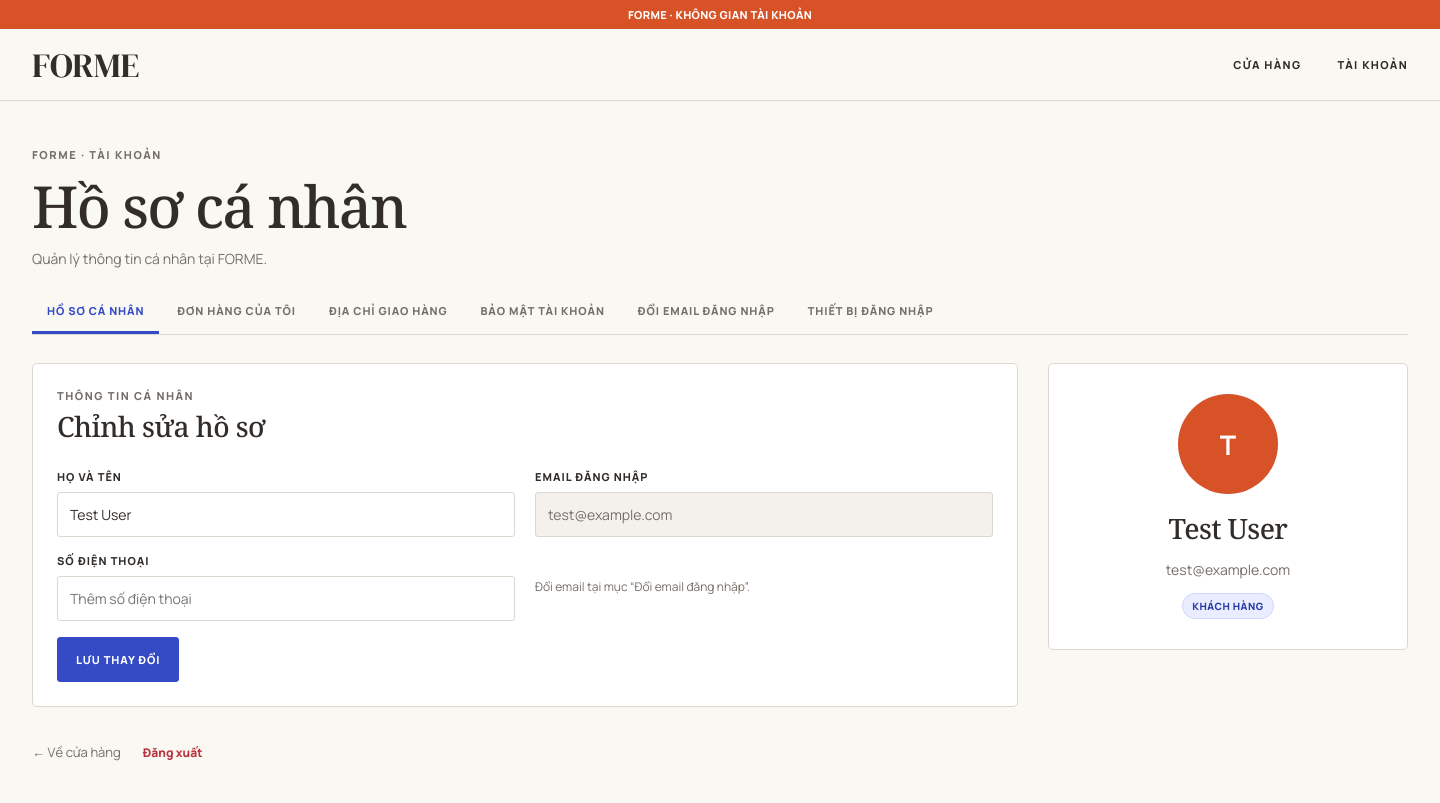
Test case: App › loads and updates the authenticated profile
The width and height of the screenshot is (1440, 803).
Expected: the text "test@example.com" is shown, [1166,560,1290,579]
Replace the text in the field labelled "HỌ VÀ TÊN" with "Updated User" at (286, 514), box [57,492,515,537]
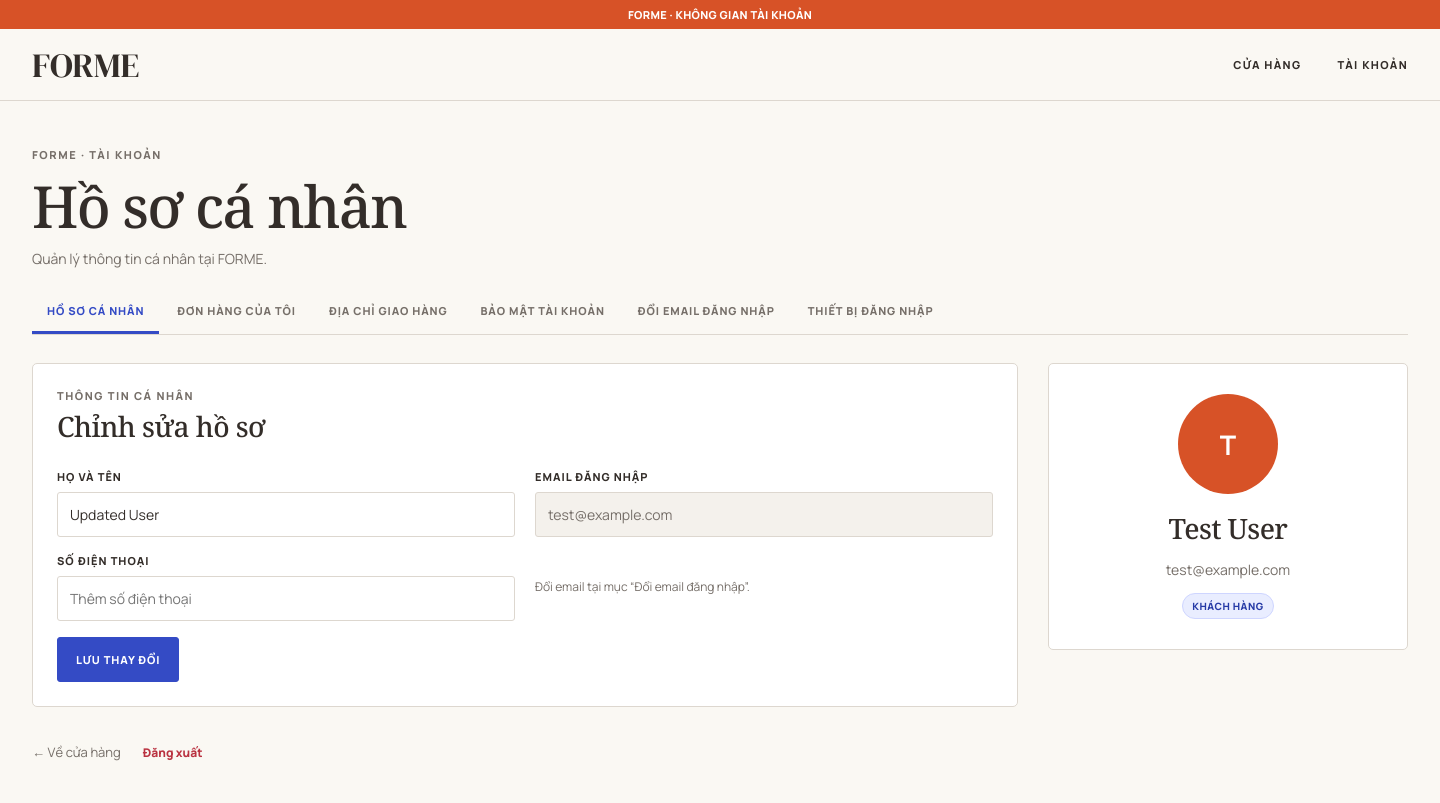
Type "0901234567" into the field labelled "SỐ ĐIỆN THOẠI" at (286, 598), box [57,576,515,621]
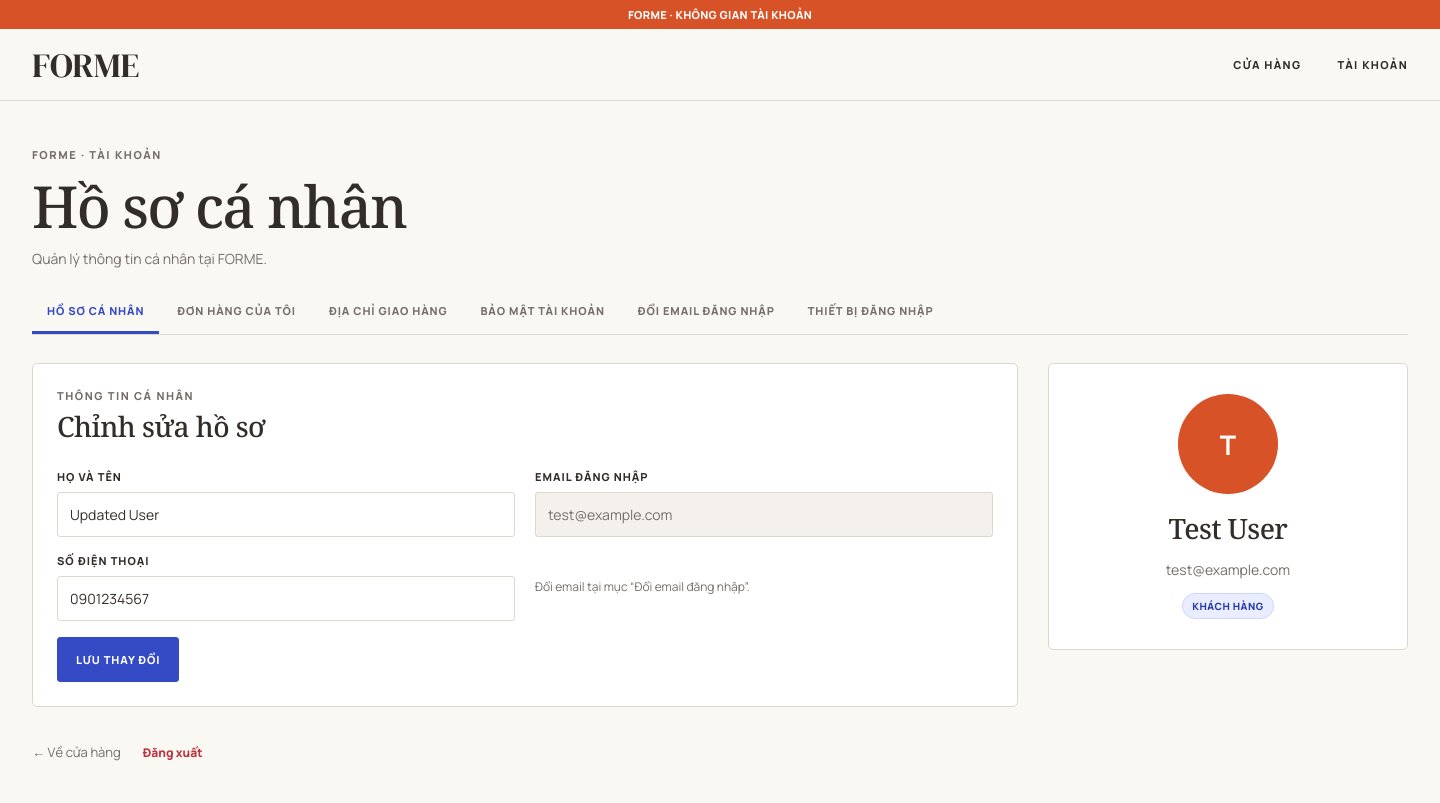
Click the button "Lưu thay đổi" at (118, 659), box [57,637,180,682]
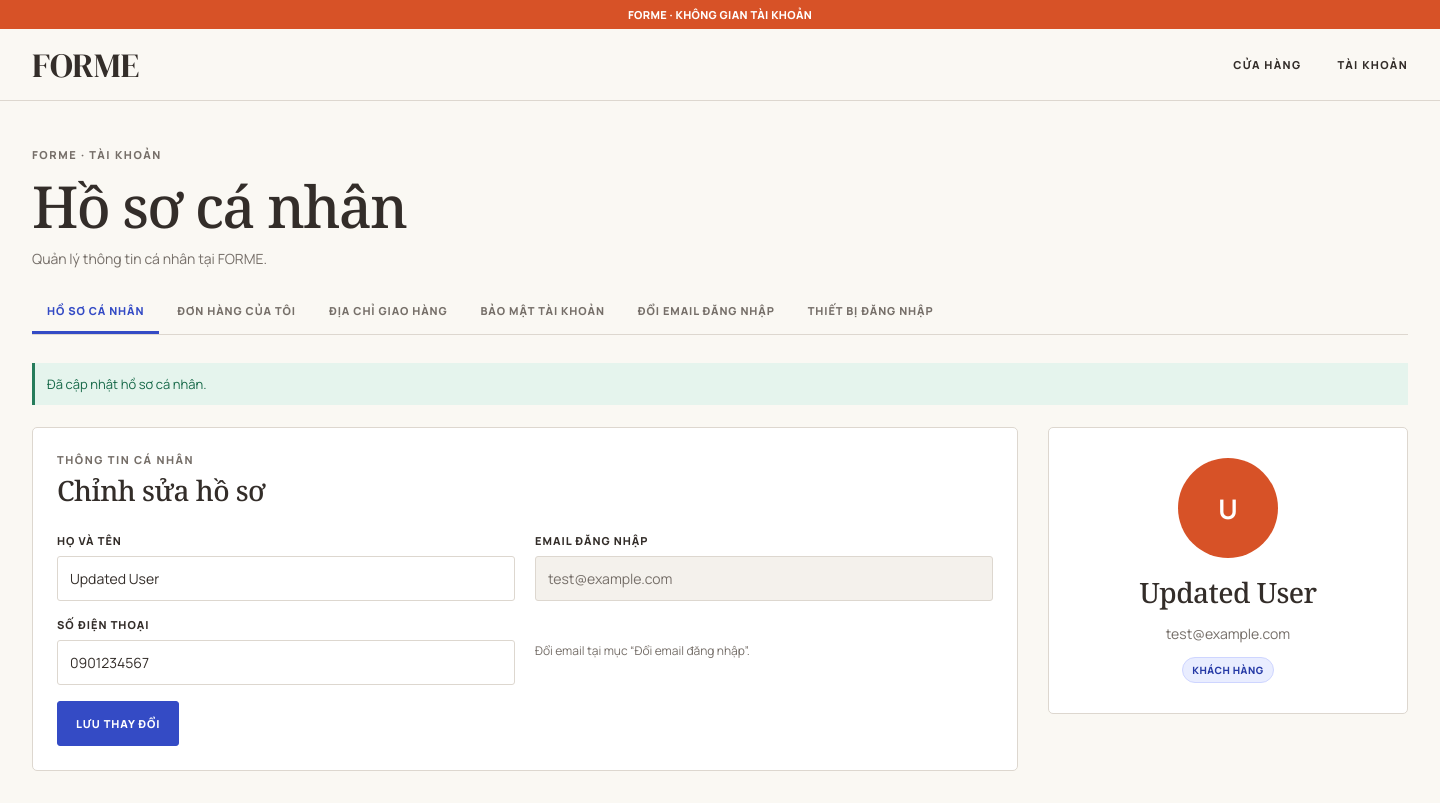
Now the text "Đã cập nhật hồ sơ cá nhân." is shown, box [32,363,1408,405]
